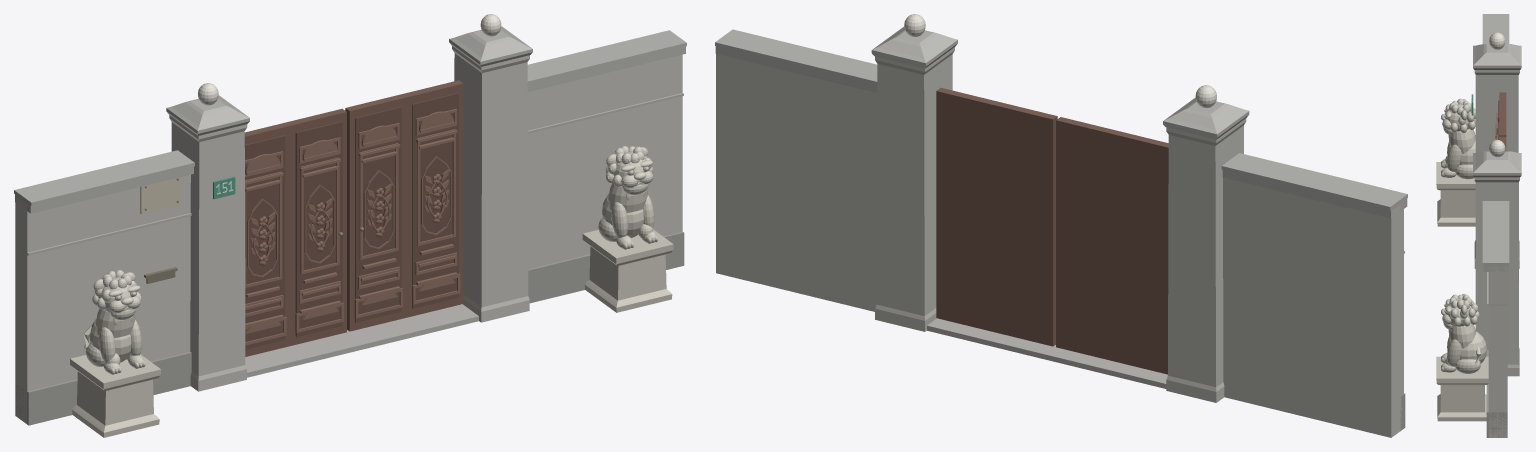
File: xuhui-zhu-mintang-residence-web.glb
The picture shows the model from 3 angles, left to right: view 1: azimuth 30°, elevation 25°; view 2: azimuth 150°, elevation 25°; view 3: azimuth 270°, elevation 25°; orthographic projection. The views are drawn at different scales.
Visible parts, largest first — view 1: 朱敏堂住宅乌鲁木齐南路151号街门与双石狮; view 2: 朱敏堂住宅乌鲁木齐南路151号街门与双石狮; view 3: 朱敏堂住宅乌鲁木齐南路151号街门与双石狮.
Boxes of the visible parts, bbox=[...] form: 朱敏堂住宅乌鲁木齐南路151号街门与双石狮: bbox=[14, 14, 686, 437]; 朱敏堂住宅乌鲁木齐南路151号街门与双石狮: bbox=[715, 14, 1407, 437]; 朱敏堂住宅乌鲁木齐南路151号街门与双石狮: bbox=[1436, 14, 1521, 437].
Size of the model in its own units: 8.9 by 3.78 by 1.29.
